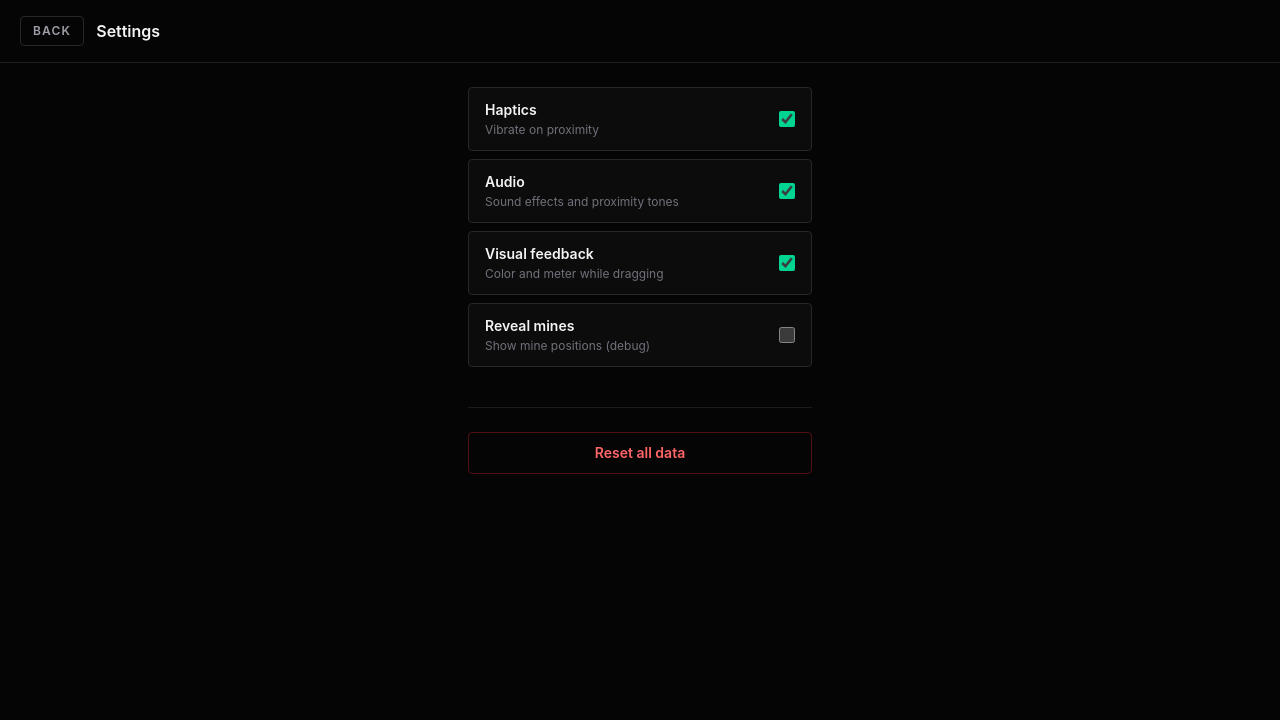
Test: SettingsScreen › back button returns to home
Click the button "Back".
click(52, 31)  # box [20,16,84,46]
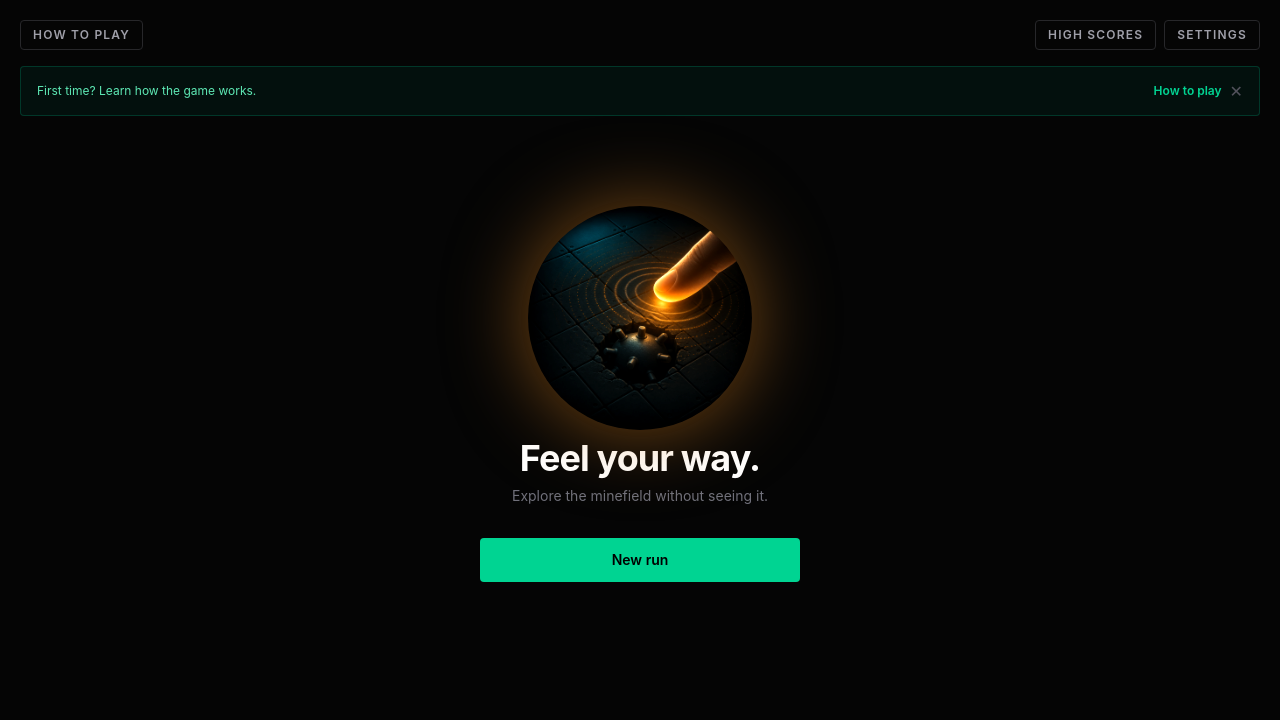
Expected: the button "New run" is shown, [480,538,800,582]
